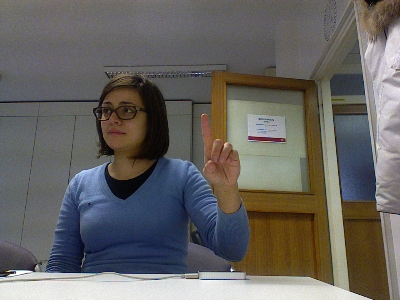食指: (199, 112, 241, 186)
